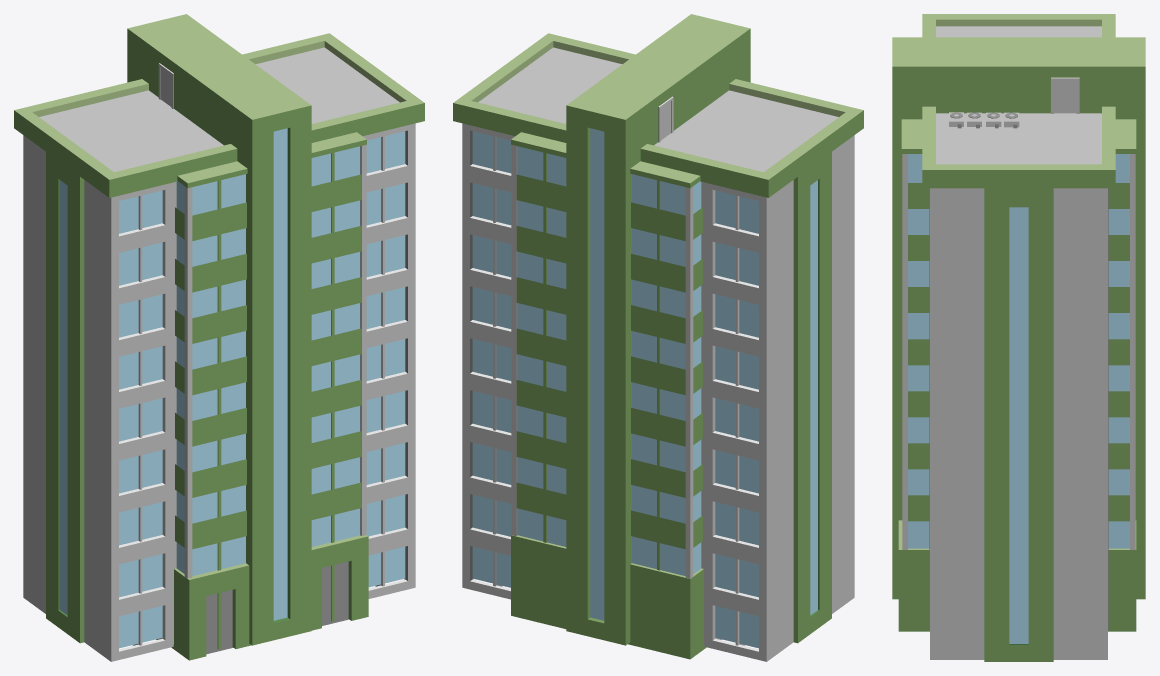
File: house_high_005.fbx
3 views of the same model, side by side, from view 1: azimuth 30°, elevation 25°; view 2: azimuth 150°, elevation 25°; view 3: azimuth 270°, elevation 25° (orthographic).
Visible parts, largest first — view 1: house_high_005; view 2: house_high_005; view 3: house_high_005.
Boxes of the visible parts, x1,y1,x2,y2 form: house_high_005: (14,14,424,661); house_high_005: (453,14,863,661); house_high_005: (892,14,1145,661).
Bounding box in the file's own units: 1390 × 2229 × 954.
